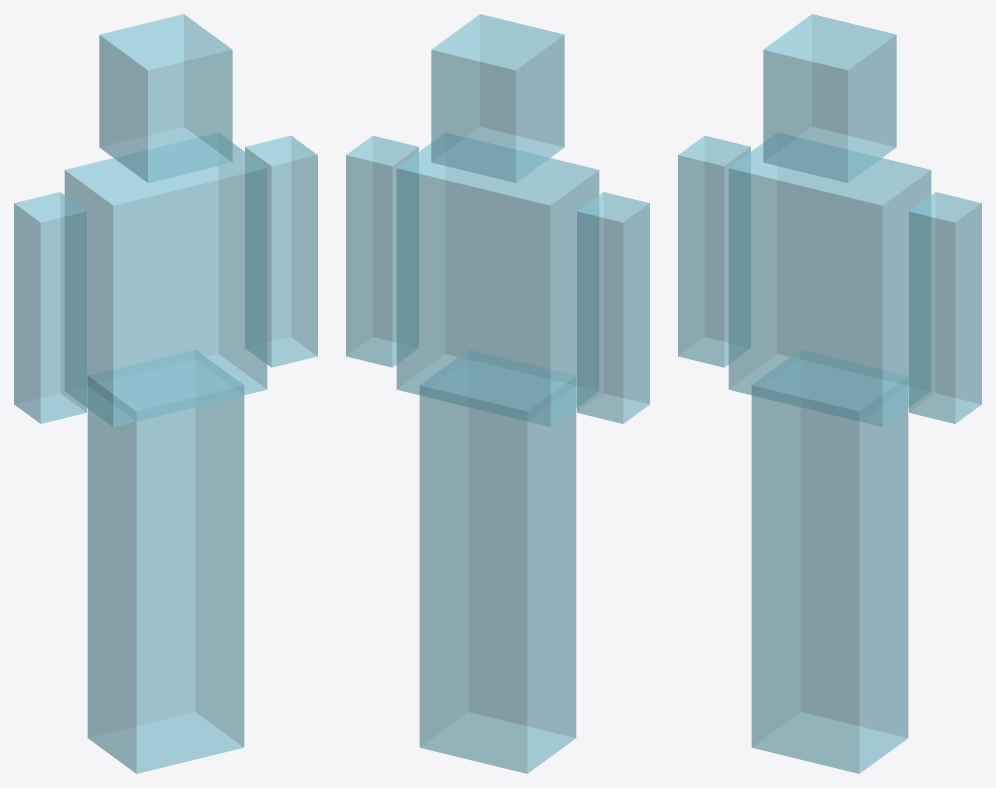
Rendered from placement-ghost.glb.
3 views of the same model, side by side, from view 1: azimuth 30°, elevation 25°; view 2: azimuth 150°, elevation 25°; view 3: azimuth 330°, elevation 25° (orthographic).
Parts seen in each view (by area): view 1: legs, torso, head, armL, armR; view 2: legs, torso, head, armL, armR; view 3: legs, torso, head, armR, armL.
Part boxes in pixels (<box>): legs: <box>87,350,244,773</box>; torso: <box>64,133,267,426</box>; head: <box>99,14,232,182</box>; armL: <box>14,192,86,423</box>; armR: <box>245,135,317,367</box>; legs: <box>419,350,576,773</box>; torso: <box>396,133,599,426</box>; head: <box>431,14,564,182</box>; armL: <box>577,192,649,423</box>; armR: <box>346,135,418,367</box>; legs: <box>751,350,908,773</box>; torso: <box>728,133,931,426</box>; head: <box>763,14,896,182</box>; armR: <box>909,192,981,423</box>; armL: <box>678,135,750,367</box>.
Bounding box in the file's own units: 0.72 × 1.74 × 0.22.
